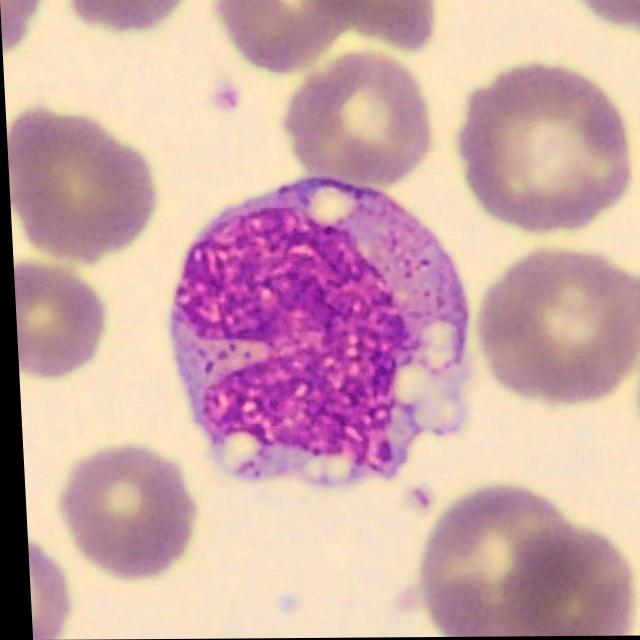Monocito: (164, 174, 467, 489)
